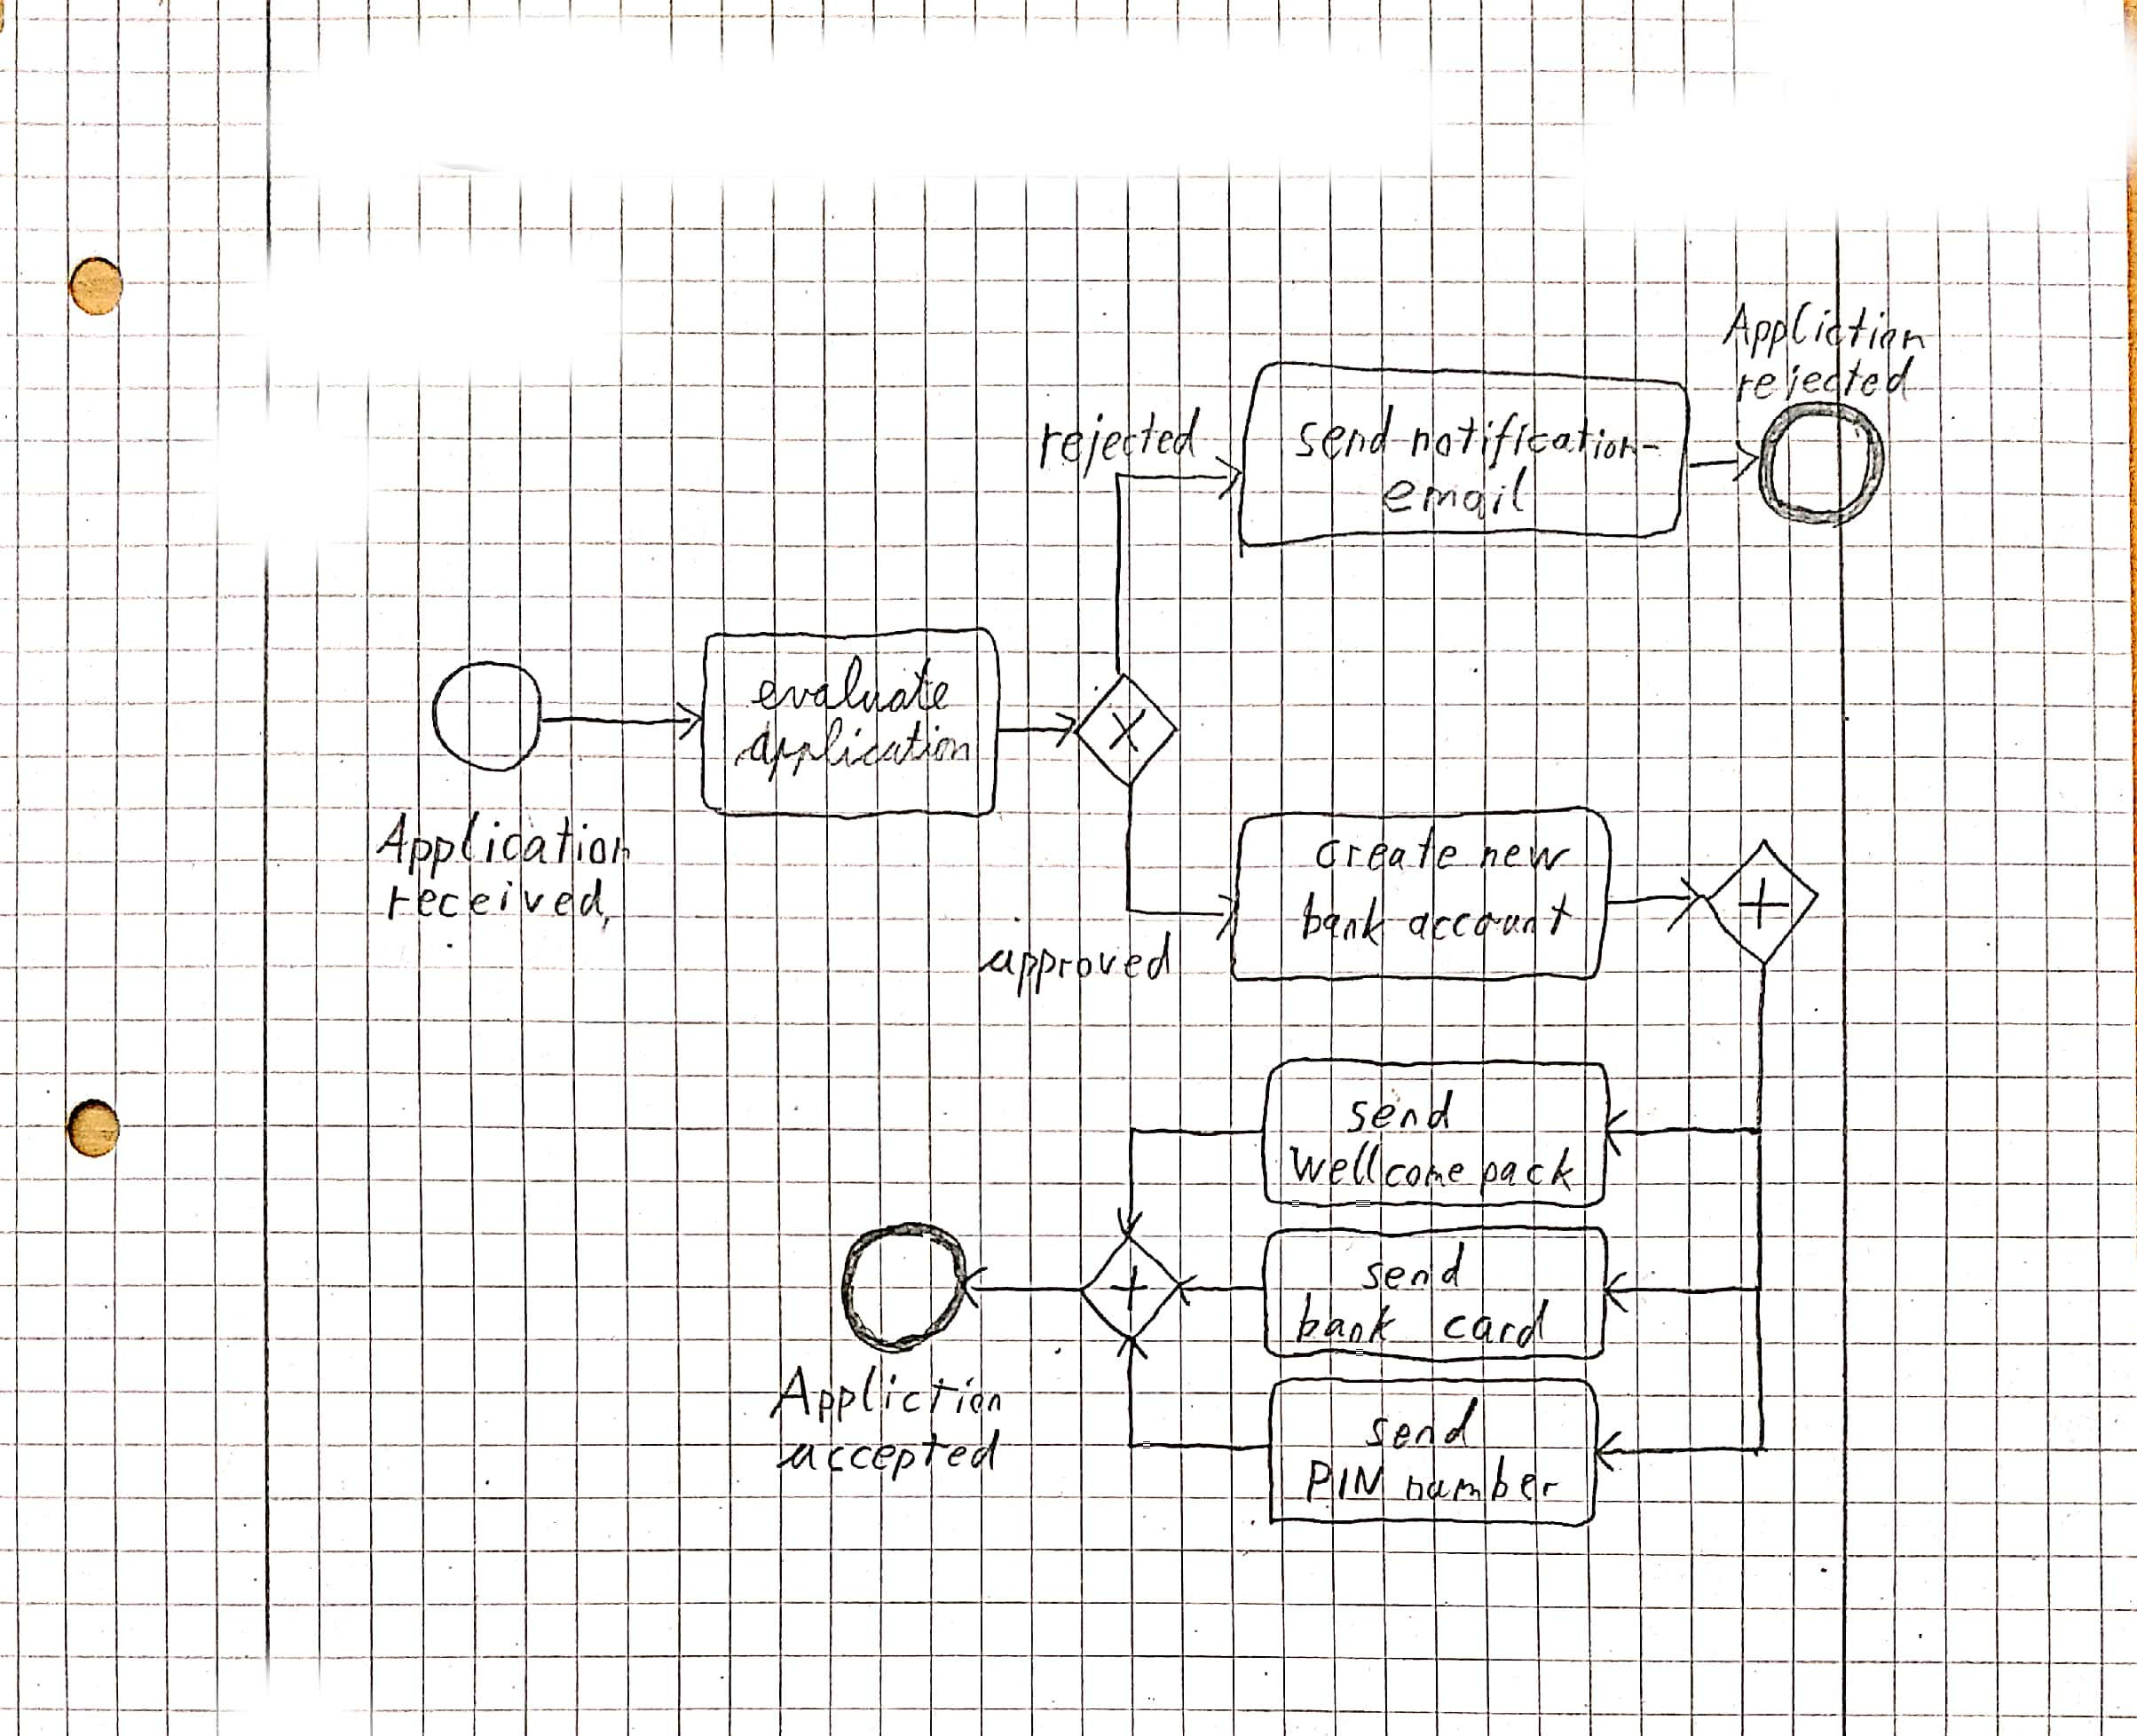Application: (370, 801, 641, 886), (763, 1353, 1013, 1431), (1717, 296, 1939, 365)
PIN: (1300, 1451, 1386, 1513)
accepted: (767, 1428, 1006, 1481)
account: (1402, 896, 1581, 951)
application: (731, 719, 977, 785)
approved: (972, 926, 1181, 1003)
bank: (1291, 1293, 1423, 1353), (1294, 891, 1393, 958)
card: (1439, 1293, 1560, 1357)
come: (1385, 1141, 1470, 1197)
create: (1307, 822, 1471, 880)
email: (1385, 468, 1533, 528)
evaluate: (754, 659, 960, 719)
new: (1478, 834, 1579, 880)
notification-: (1402, 409, 1666, 469)
number: (1395, 1458, 1572, 1513)
pack: (1473, 1137, 1581, 1197)
received: (386, 879, 632, 934)
rejected: (1032, 407, 1209, 477), (1726, 358, 1928, 411)
send: (1362, 1392, 1503, 1456), (1356, 1240, 1484, 1293), (1287, 407, 1392, 469), (1346, 1093, 1459, 1139)
well: (1275, 1137, 1383, 1192)
